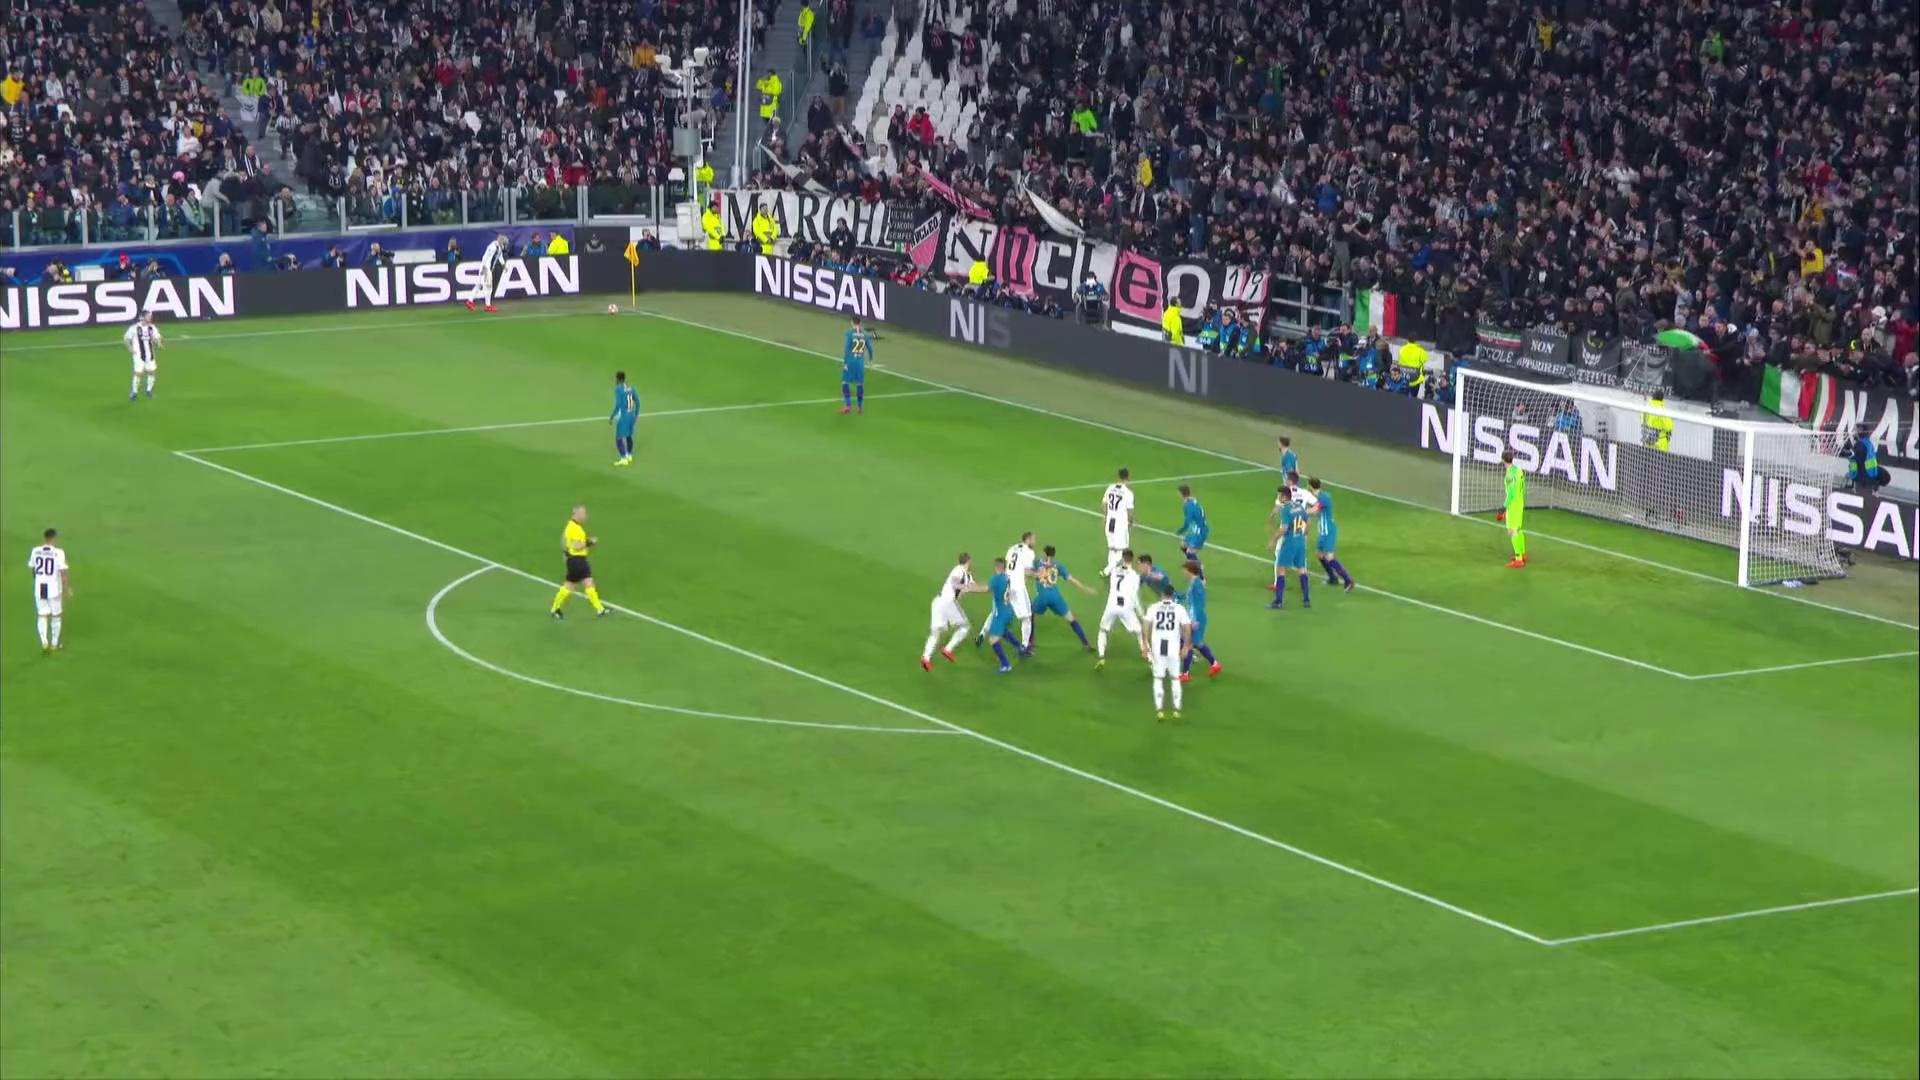ball: (607, 302, 620, 316)
